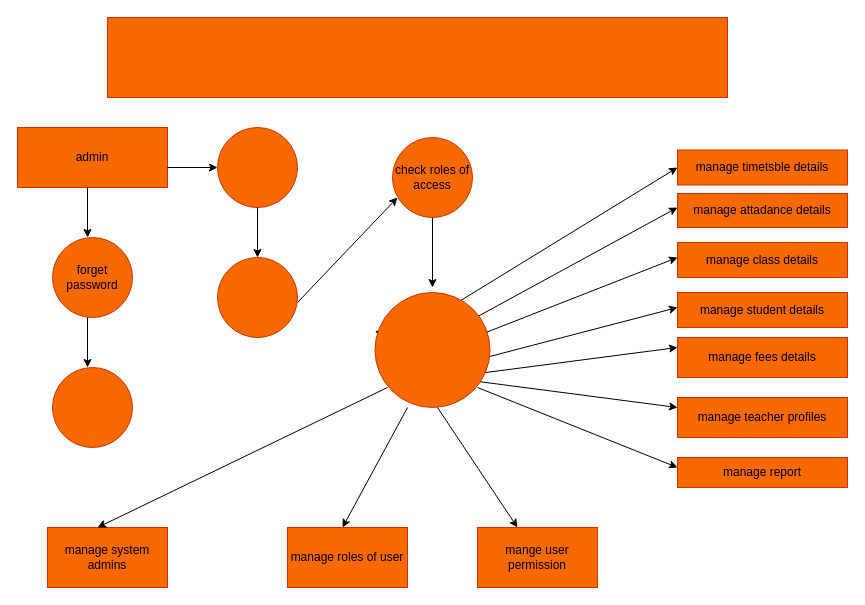
Some shapes in this 865 by 605 pixel diagram are drawn without their labels. Each missing label, with the centre of its shape:
check credentials: [257,297]
login to systems: [257,167]
manage modules: [432,350]
send email to user: [92,407]
student information system: [417,57]
